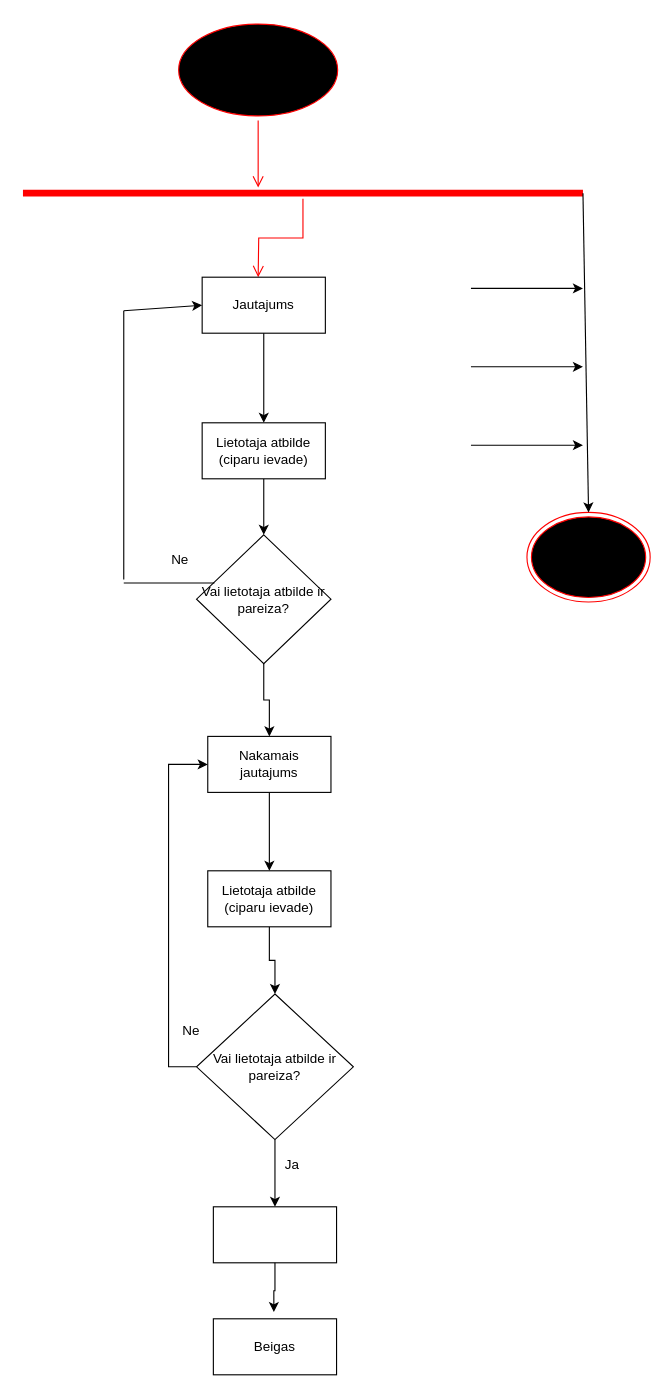
This 670x1394 diagram has some shape labels left out. The shapes that lost their labels are listed below. From the top down, each one's centre as x and y in pixels, then its label:
At (257,69): "Koda startesaana".
At (588,556): "Koda apturesana".
At (274,1234): "Izvadas cik ir pareizi atbildets ar 1 reizi".
